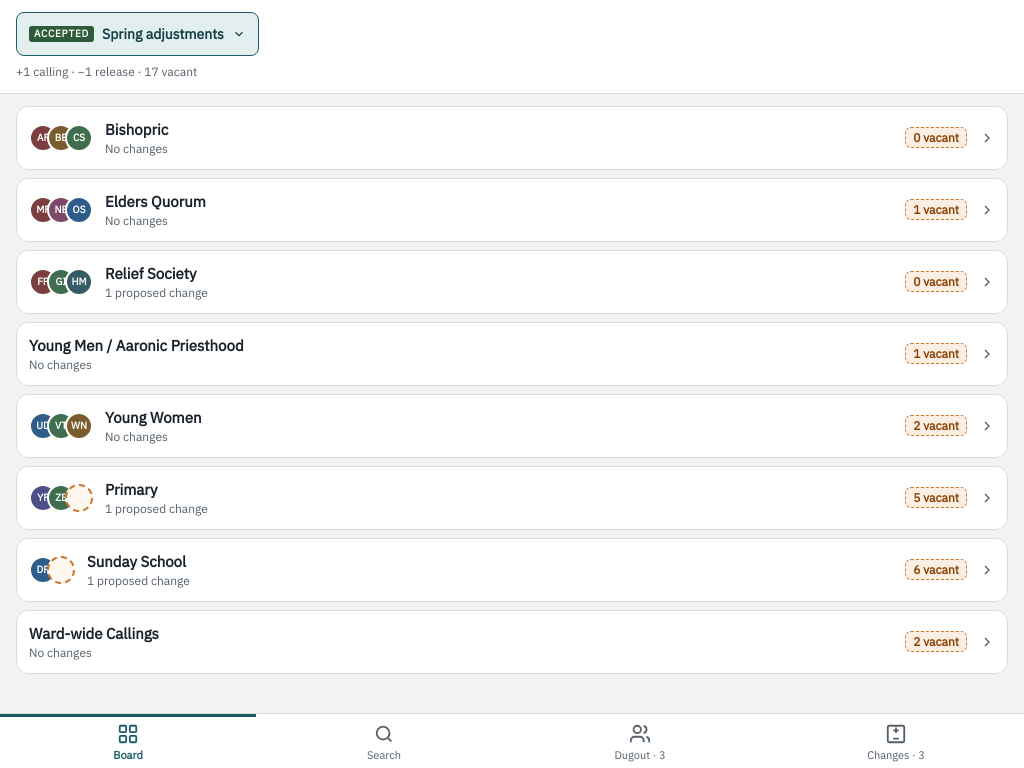
it: phone board editing › an accepted proposal shows the sheet read-only
The width and height of the screenshot is (1024, 768).
Click the button "YF ZE Primary 1 proposed change 5 vacant" at (131, 489), box 16,466 -> 1008,530
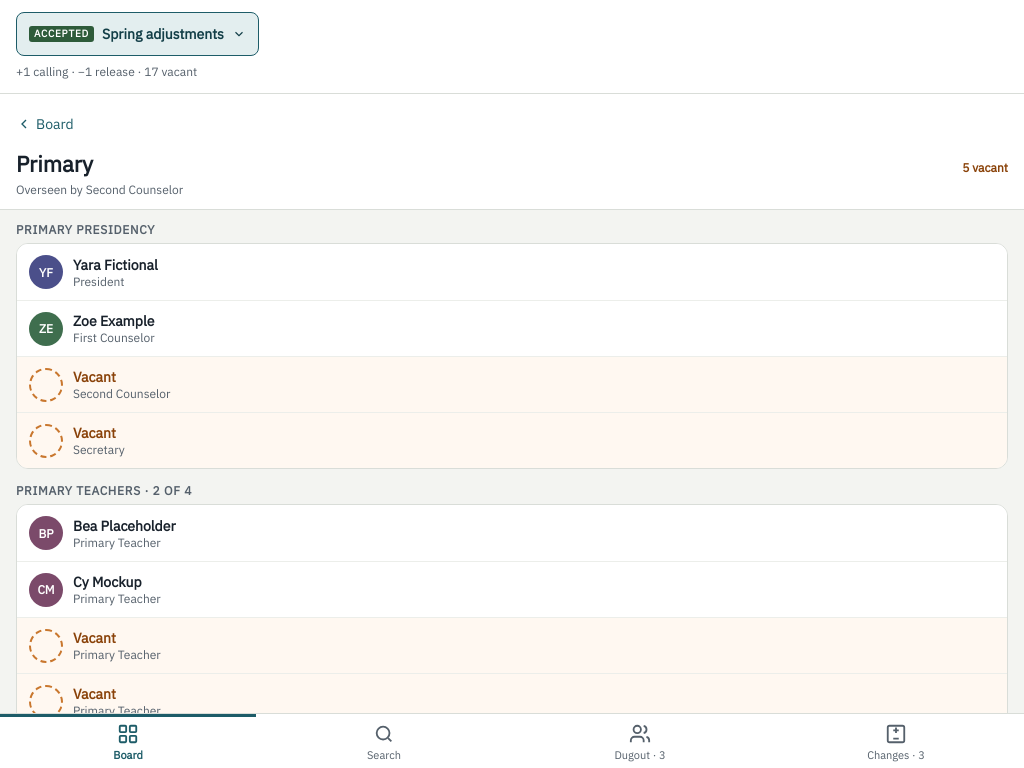
Click the button with aria-label "Bea Placeholder, Primary Teacher" at (46, 533), box 17,505 -> 1007,561
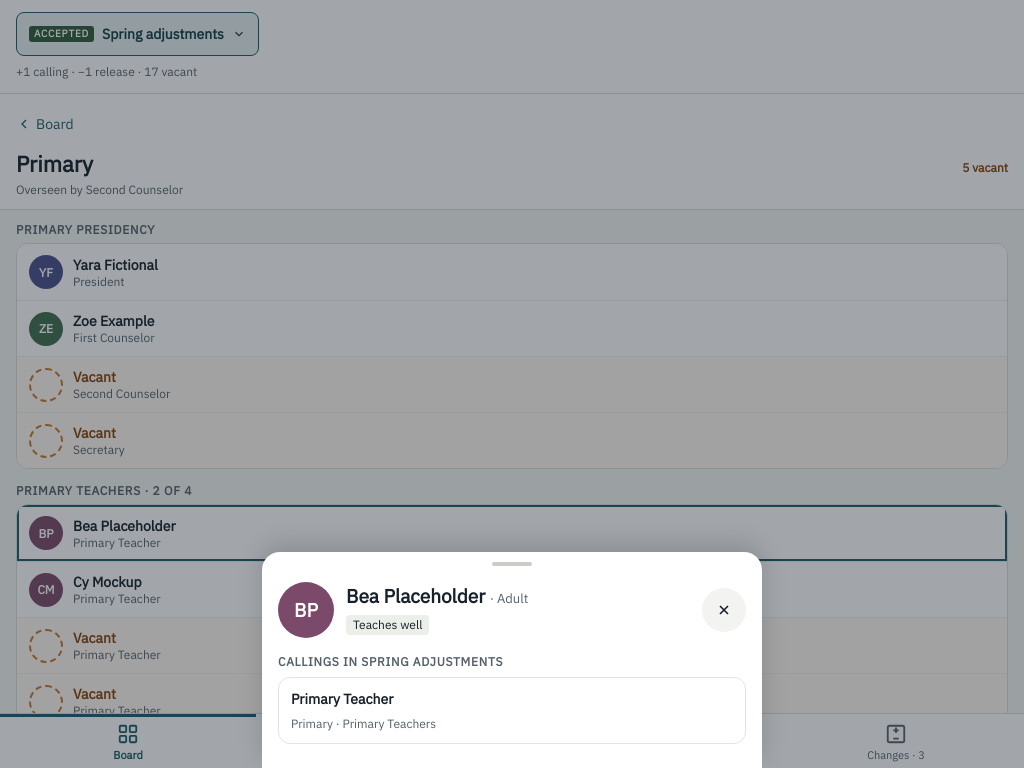
Result: the dialog "Bea Placeholder" shows "Primary Teacher" at 291,690 -> 393,708
